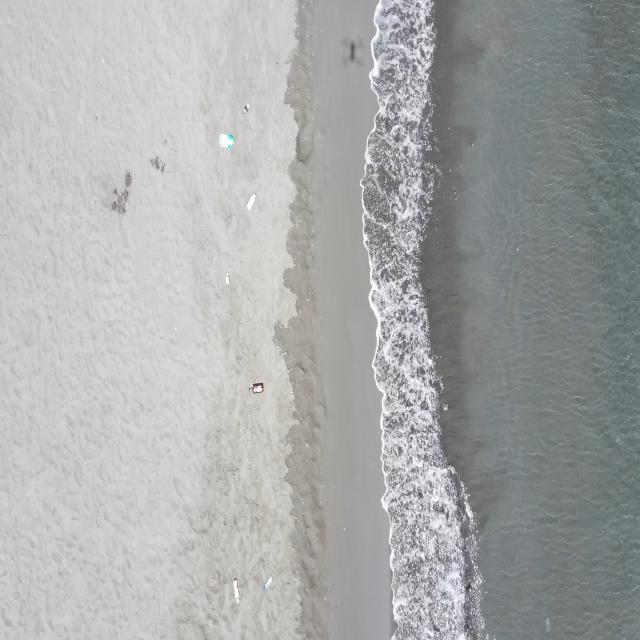plastic-bottle: (219, 132, 235, 150), (248, 381, 264, 395), (248, 190, 258, 210), (234, 580, 242, 605), (266, 572, 275, 590), (223, 271, 231, 287), (242, 102, 250, 115)
